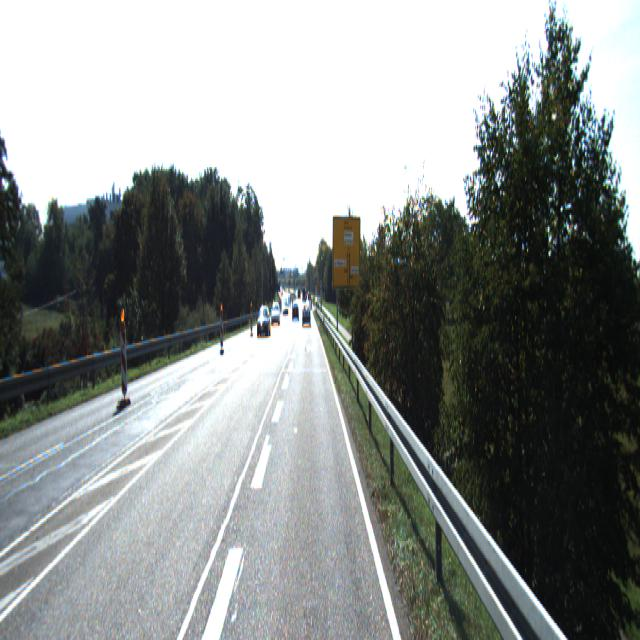Car: (256, 306, 270, 341), (302, 306, 310, 328)
